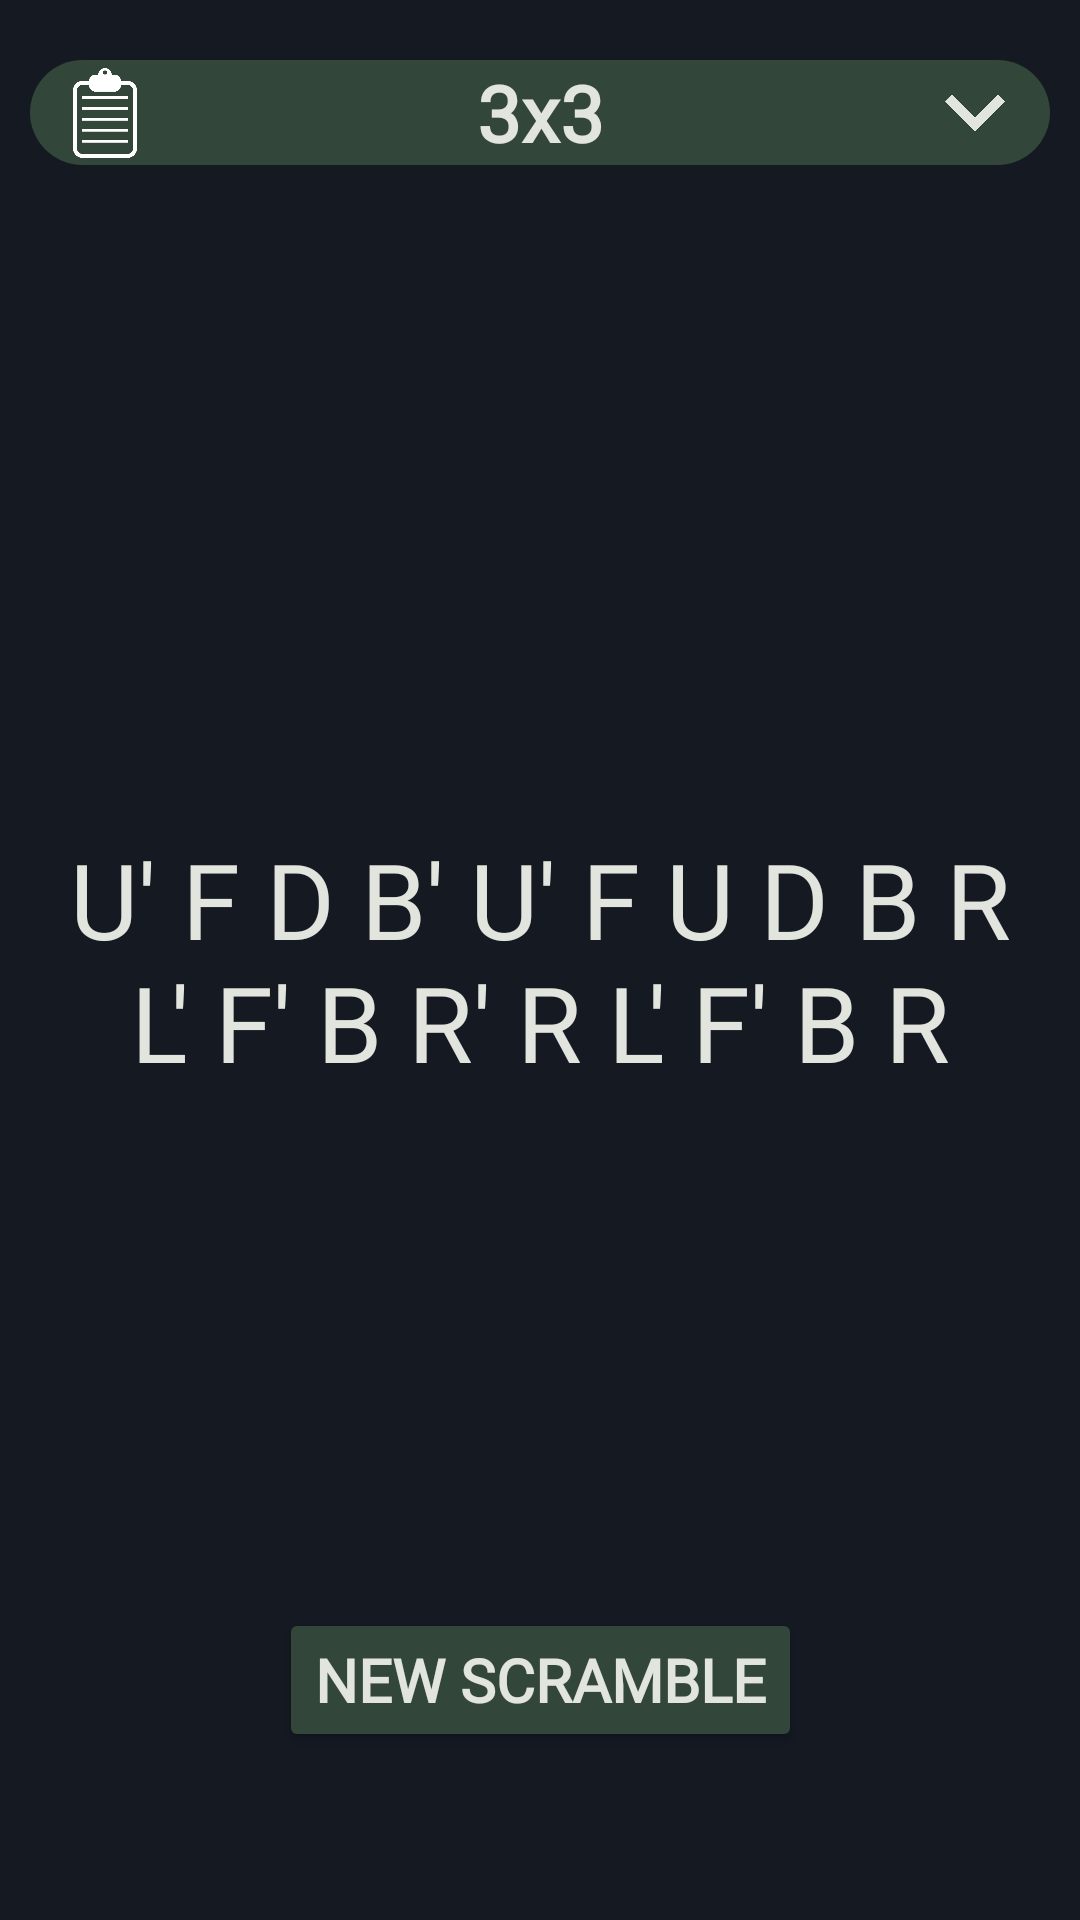

Icon bounding boxes for this 1080px×1920px phone screenshot, format (x1=x1, y1=y1, x2=x2, y2=y2):
down arrow: (x1=945, y1=95, x2=1005, y2=131)
list: (x1=73, y1=68, x2=137, y2=158)
